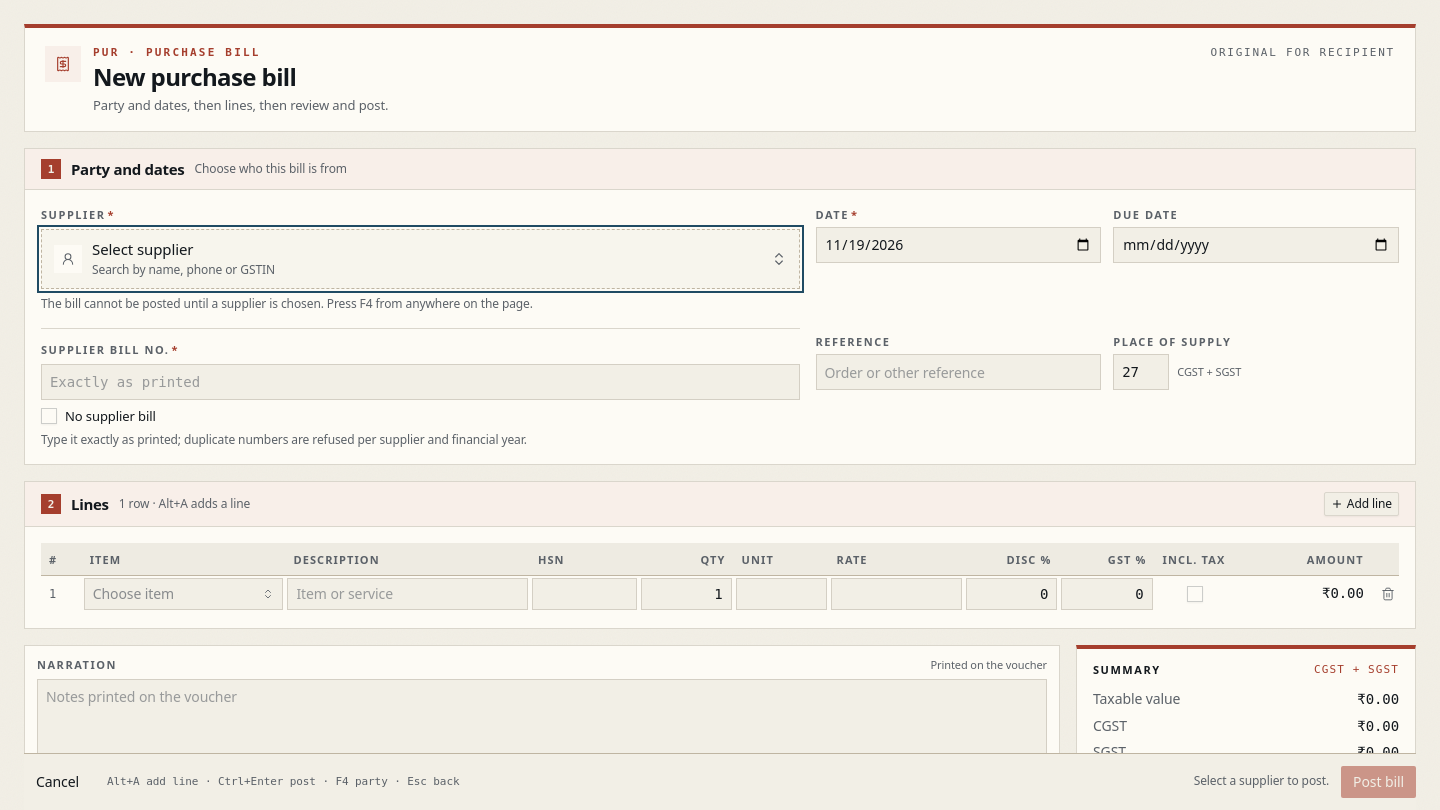
Test case: creating a master from a voucher picker › creates a supplier from the party picker and selects it immediately
Click the dropdown labelled "Select supplier".
click(114, 249)  # box [41, 229, 800, 289]
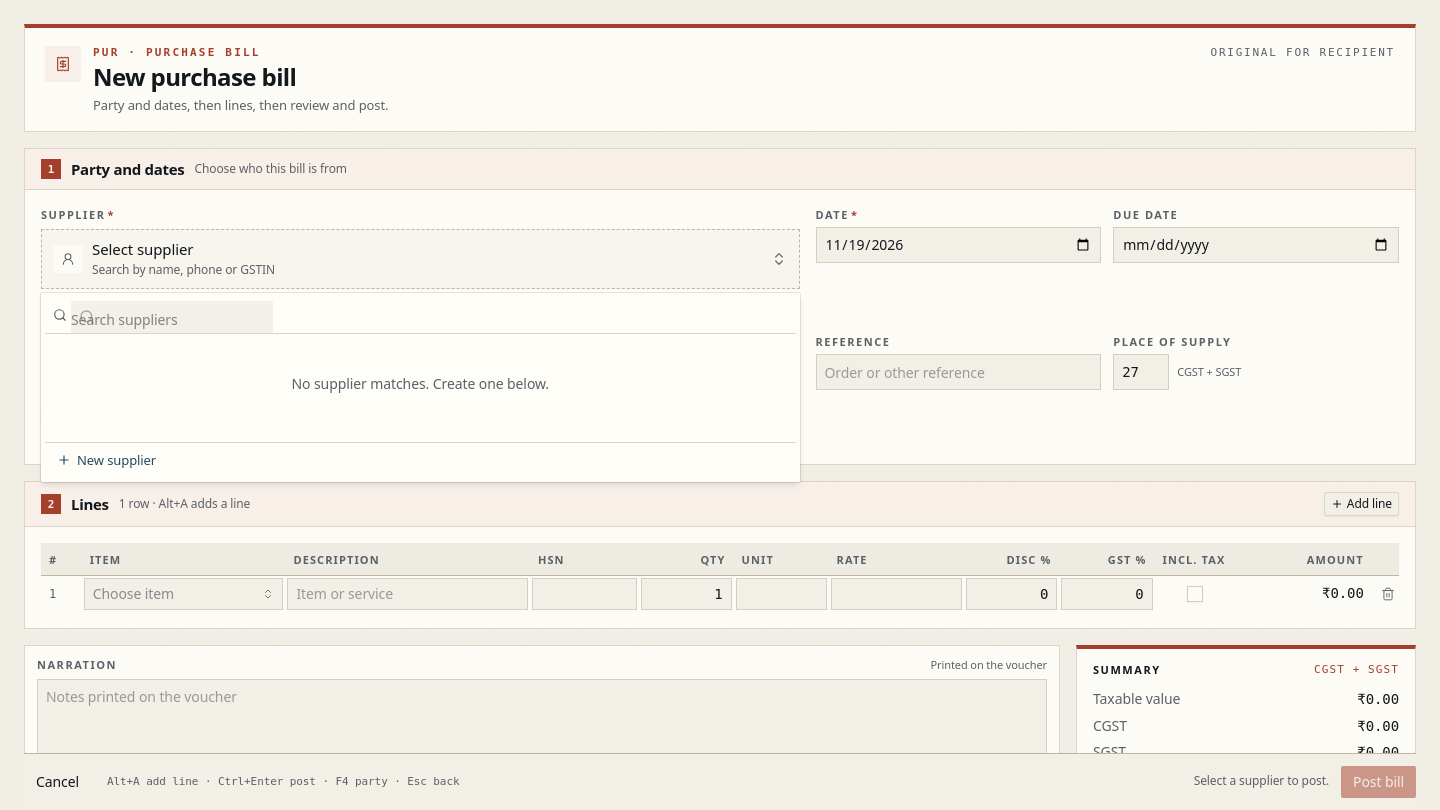
Click the button "New supplier".
click(117, 460)  # box [45, 442, 796, 478]
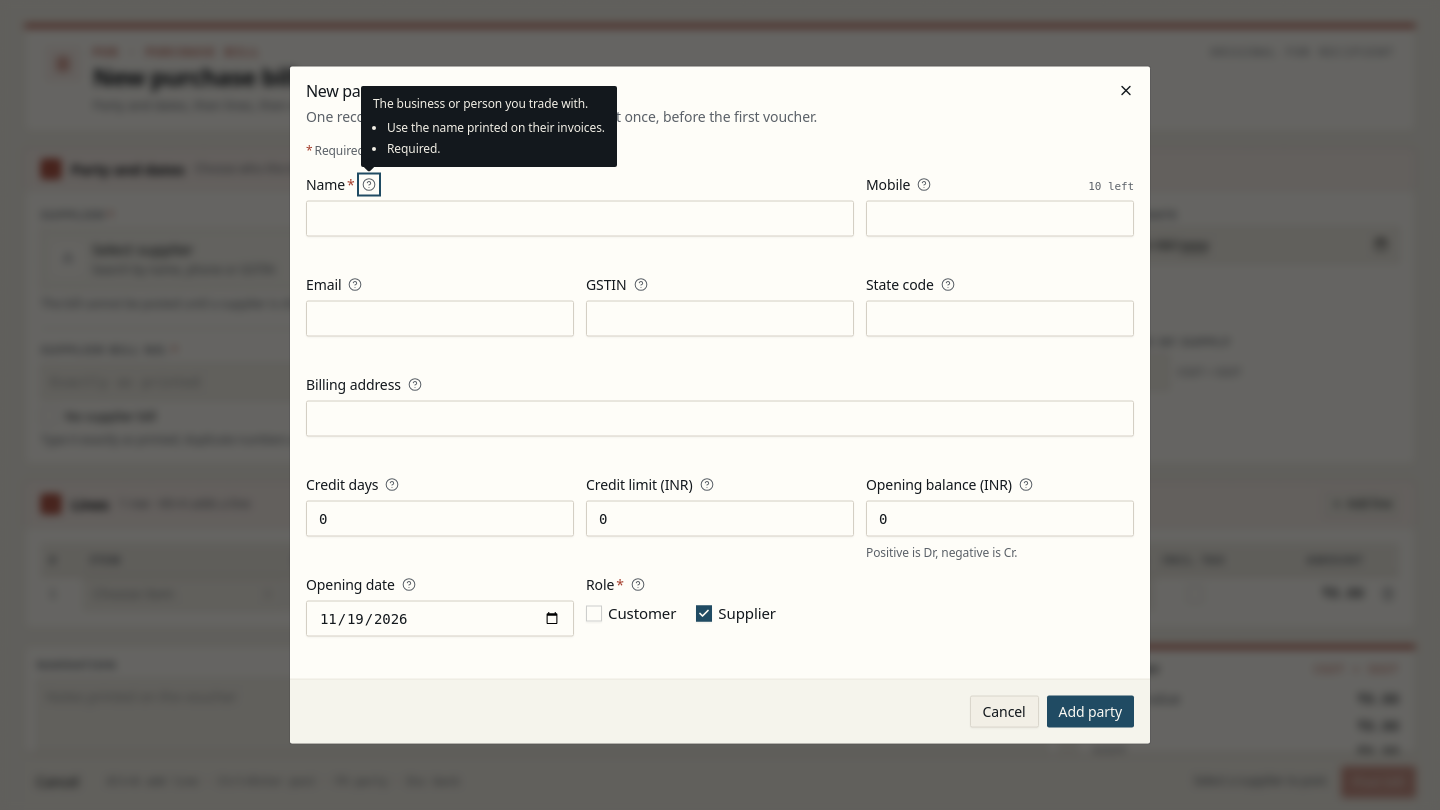
Now the heading "New party" is shown, box [306, 80, 380, 102]
Now the 2nd checkbox named "Supplier" is checked, box [696, 605, 712, 621]
Now the checkbox named "Customer" next to "Customer" is not checked, box [586, 605, 602, 621]
Type "New Supplier Co" into the field labelled "Name*".
click(580, 218); type("New Supplier Co")  # box [306, 200, 854, 236]
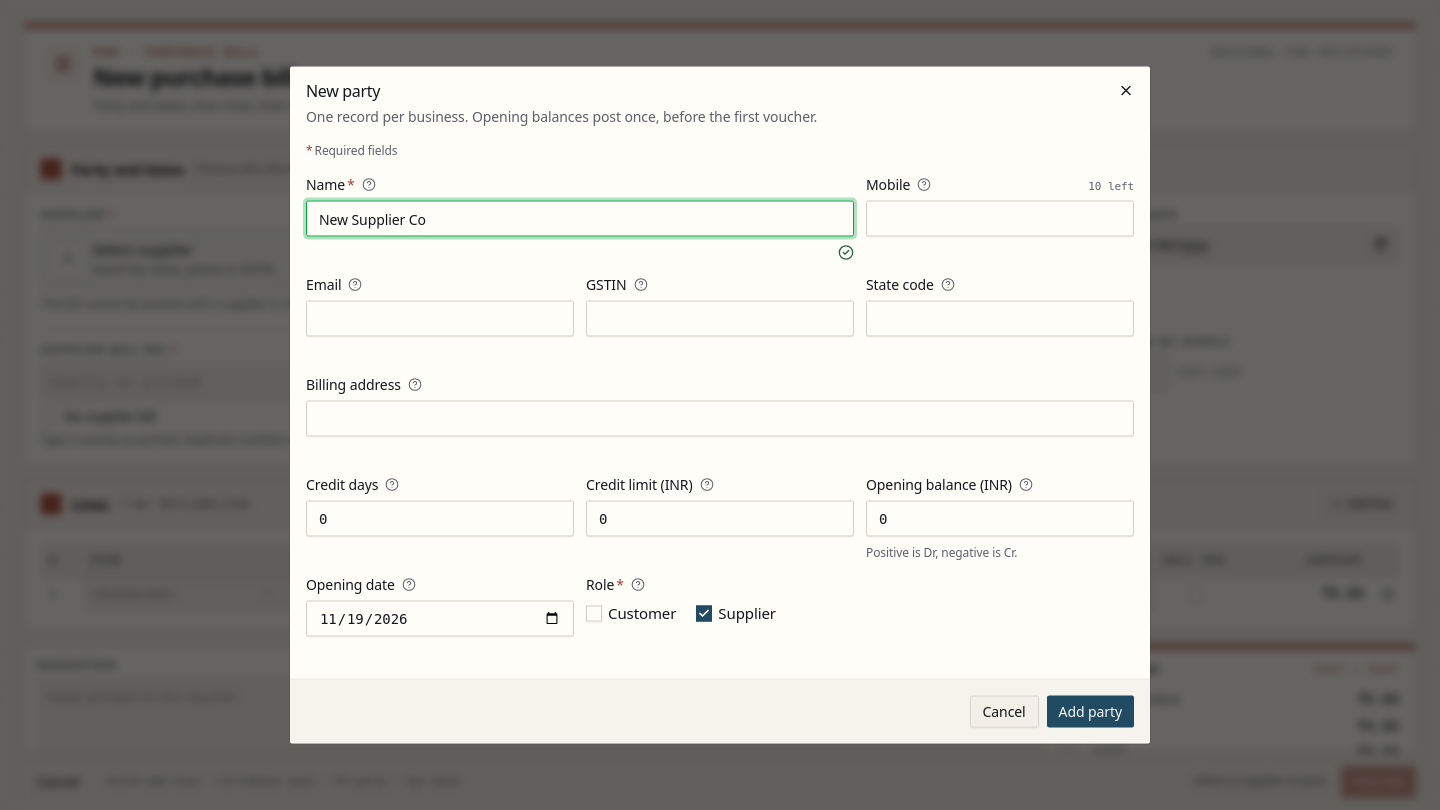
Click the button "Add party".
click(1090, 712)  # box [1047, 696, 1134, 728]
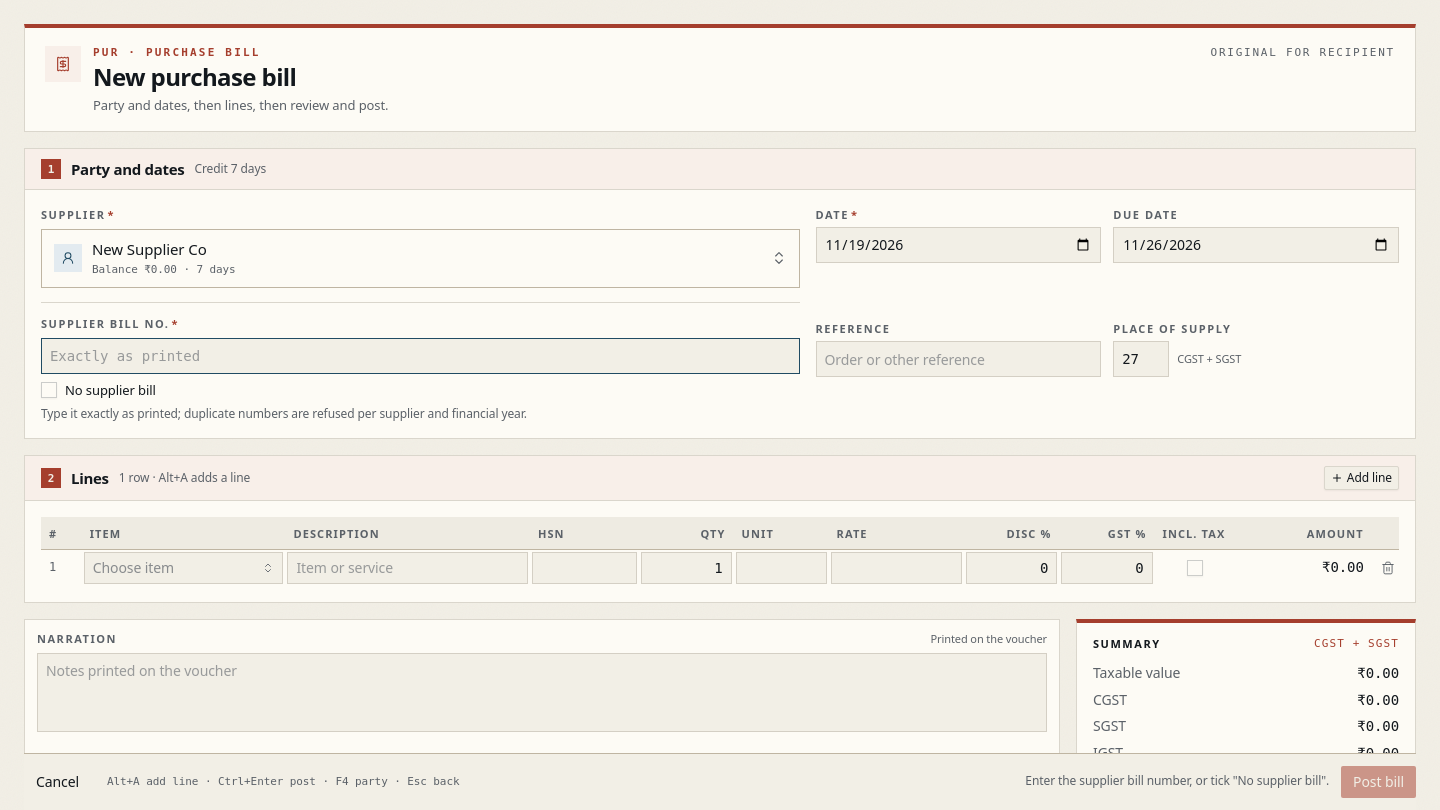
Now the text "New Supplier Co" is shown, box [92, 239, 207, 259]
Now the dropdown named "Select supplier" shows "New Supplier Co", box [41, 229, 800, 288]
